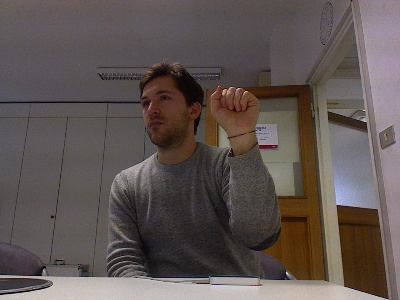石头: (209, 83, 261, 134)
